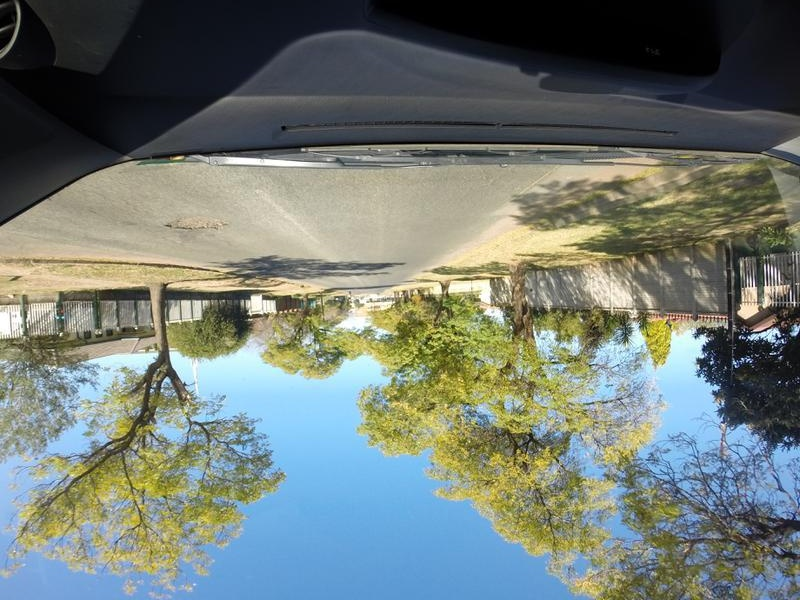pothole: (150, 208, 229, 240)
